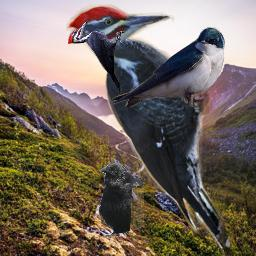Crow: (97, 162, 144, 237)
Swallow: (111, 27, 225, 107)
Woodpecker: (66, 4, 230, 256), (68, 20, 125, 100)
